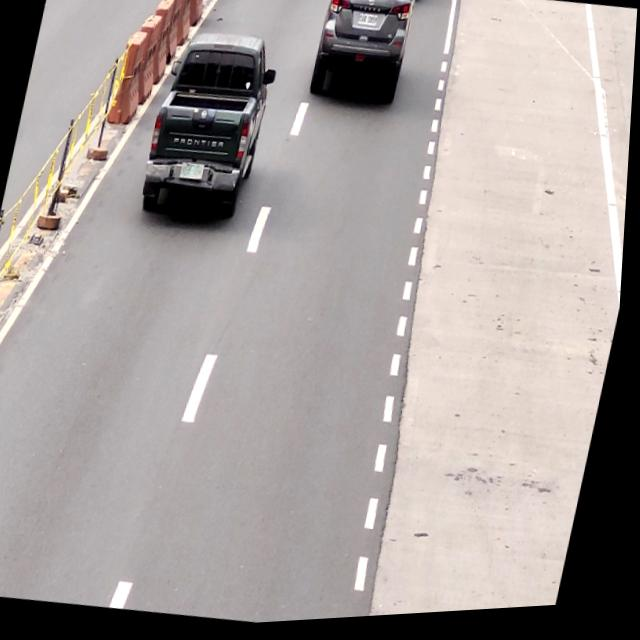Car: (142, 27, 281, 225), (307, 0, 420, 116)
License-Plate: (177, 162, 207, 189), (356, 16, 380, 36)
